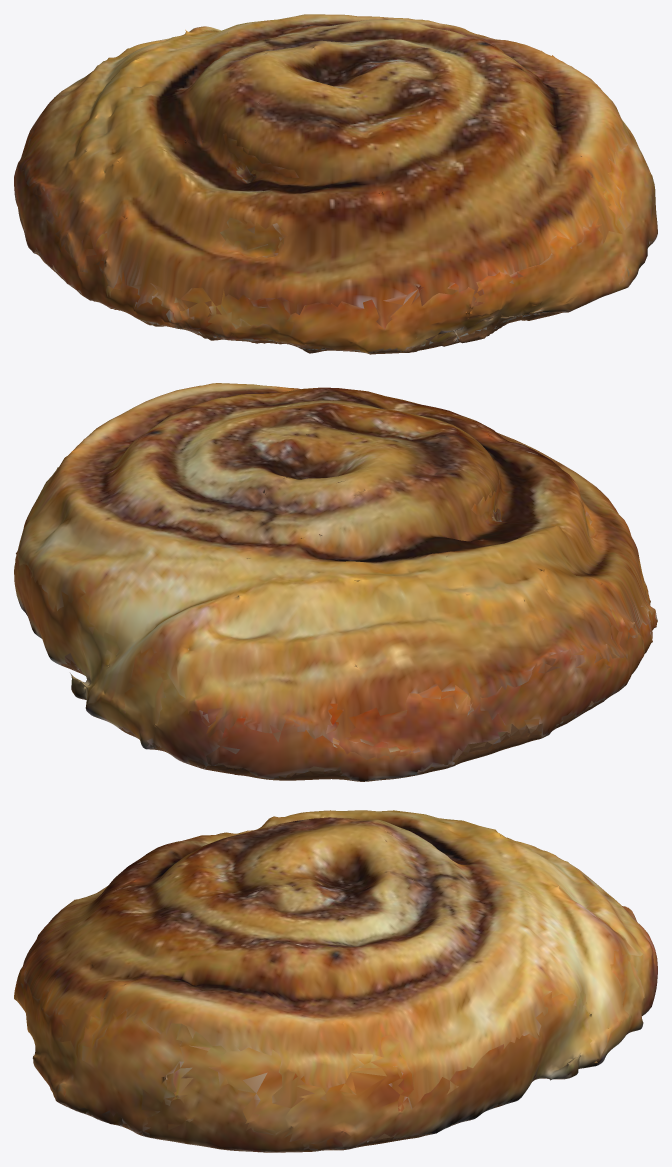
Rendered from cinnamon_18924.obj.
3 views of the same model, one above another, from view 1: azimuth 30°, elevation 25°; view 2: azimuth 150°, elevation 25°; view 3: azimuth 270°, elevation 25° (orthographic). The views are drawn at different scales.
Bounding box in the file's own units: 111 × 34.01 × 115.
1 material, 1 textured.
